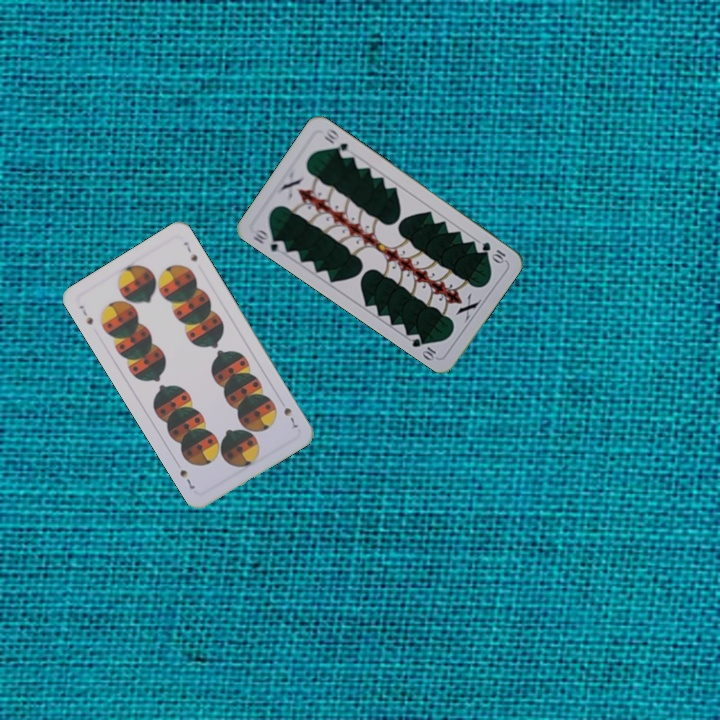G10: (249, 225, 288, 256), (478, 238, 508, 265)
S7: (280, 403, 300, 431), (75, 301, 96, 327)
